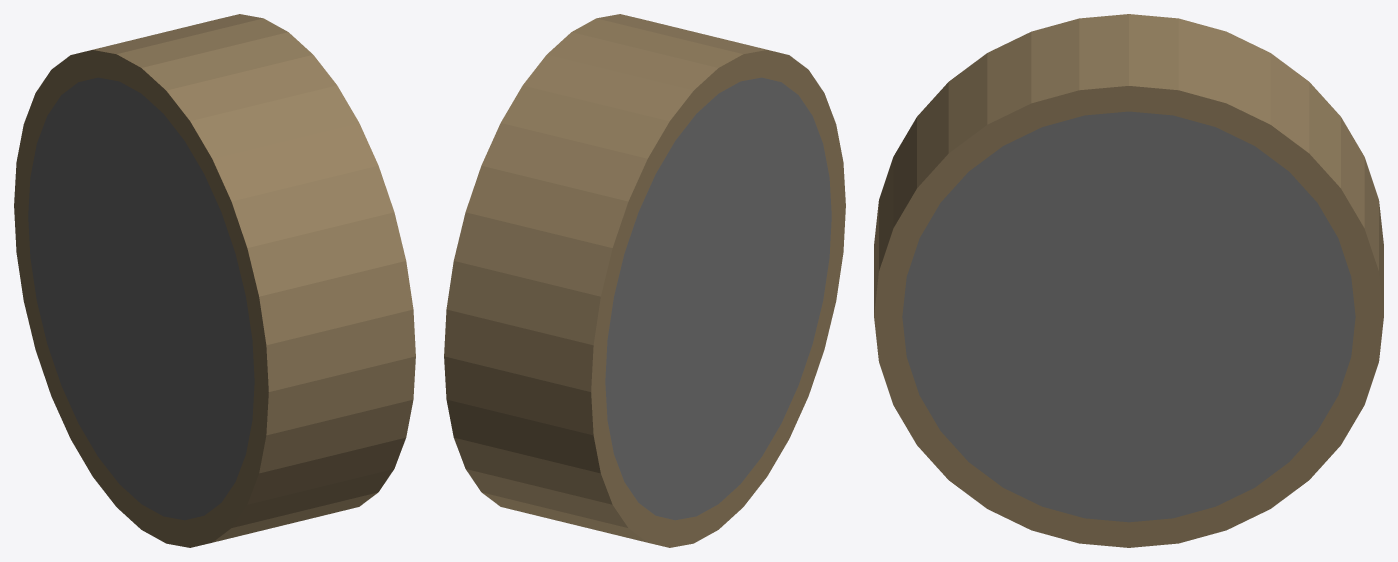
The model's file is wheel.dae.
The picture shows the model from 3 angles, left to right: view 1: azimuth 30°, elevation 25°; view 2: azimuth 150°, elevation 25°; view 3: azimuth 270°, elevation 25°; orthographic projection.
Visible parts, largest first — view 1: back left tire; view 2: back left tire; view 3: back left tire.
Part boxes in pixels (x1,y1,x2,y2): back left tire: (14, 14, 415, 547); back left tire: (444, 14, 845, 547); back left tire: (874, 14, 1383, 547).
Bounding box in the file's own units: 0.096 × 0.288 × 0.288.
